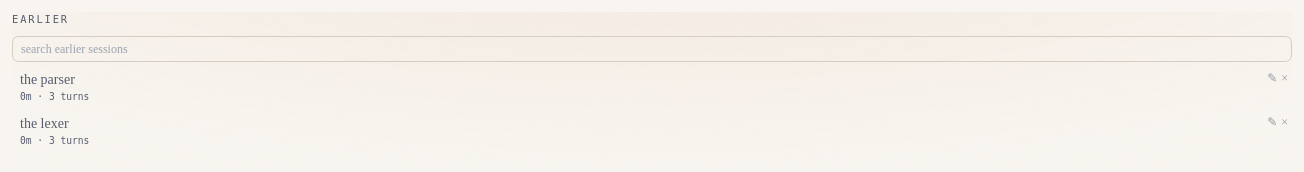
it: EarlierList › searches with a debounced query
Expected: the text "the parser" is shown, [20,72,75,87]
Type "lexer" into the search field named "search history" at (652, 49), box [12,36,1292,62]
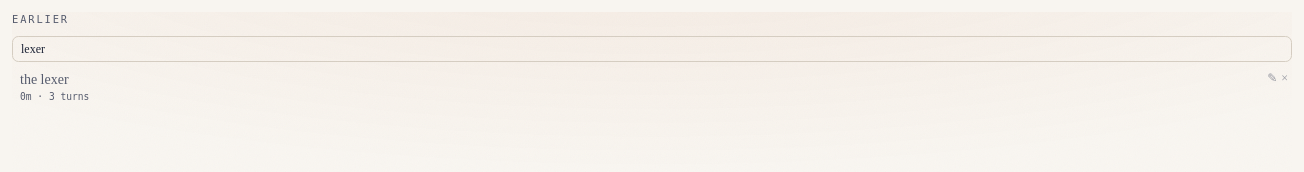
Expected: the button "the parser" is gone
